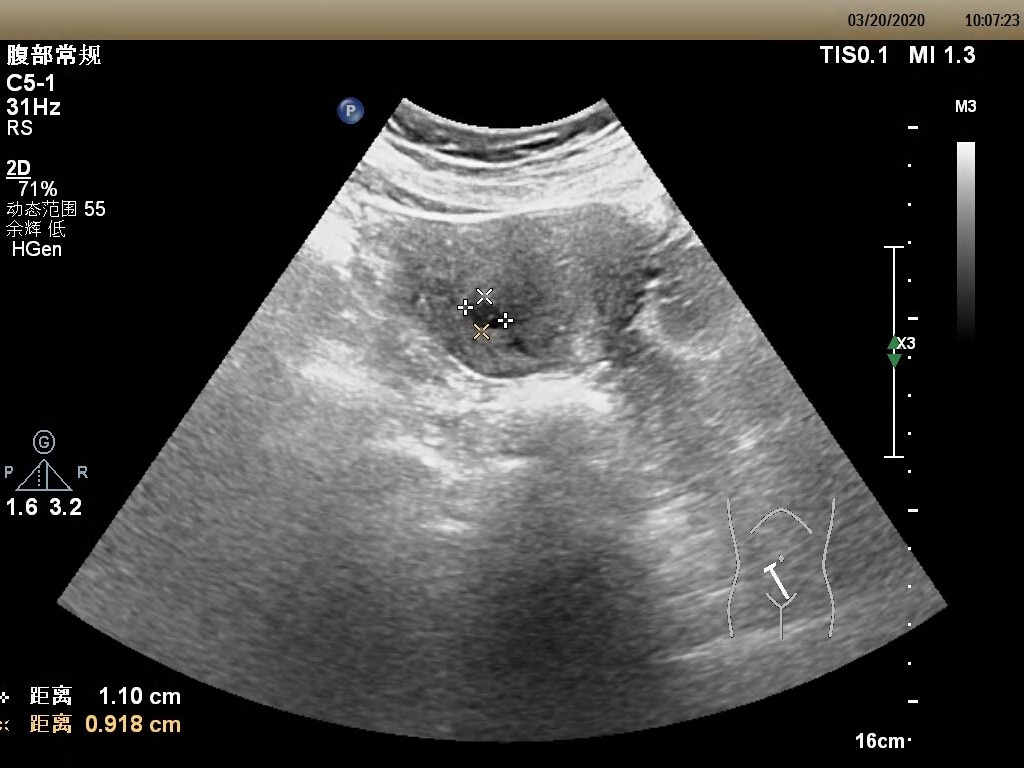肌瘤: (466, 297, 507, 335)
